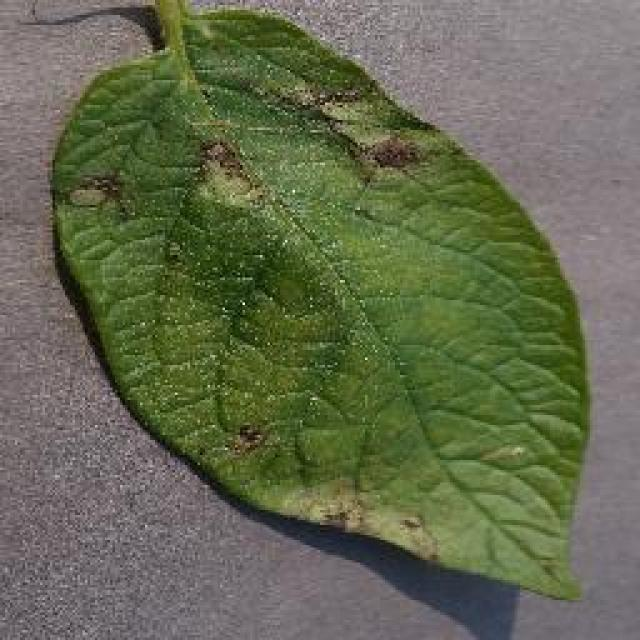Potato___Late_blight: (47, 0, 594, 608)
